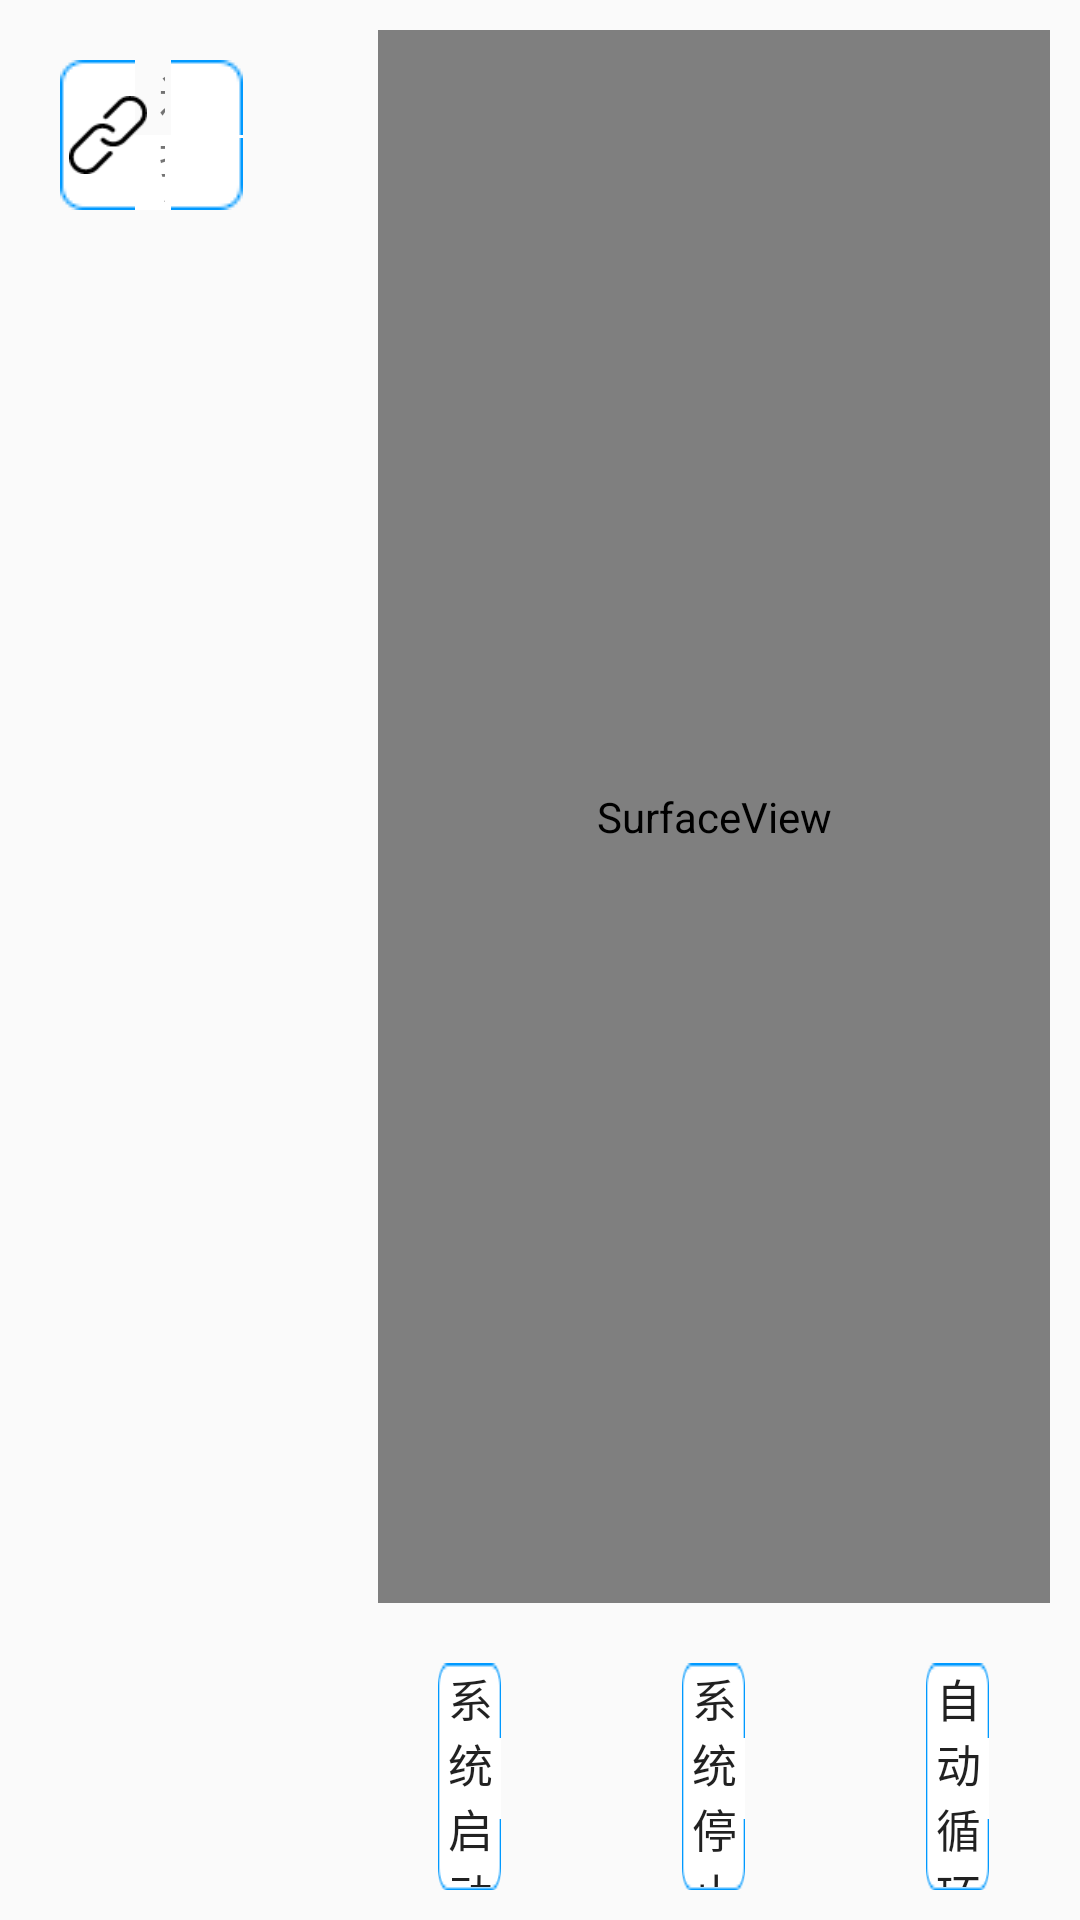

Locate icon controls on the screen. Image size 1080 × 1920, boxes as (x1, y1, x2, y2).
connect: (69, 96, 147, 174)
